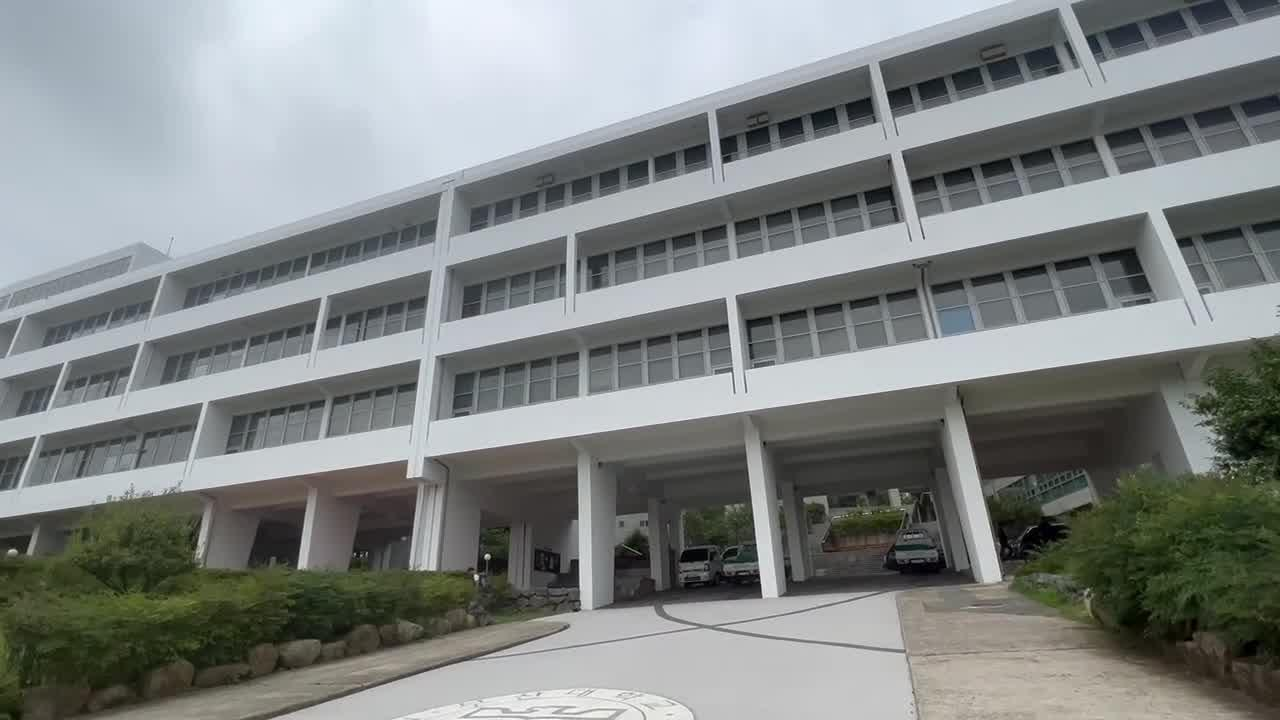building: (69, 69, 1192, 403)
